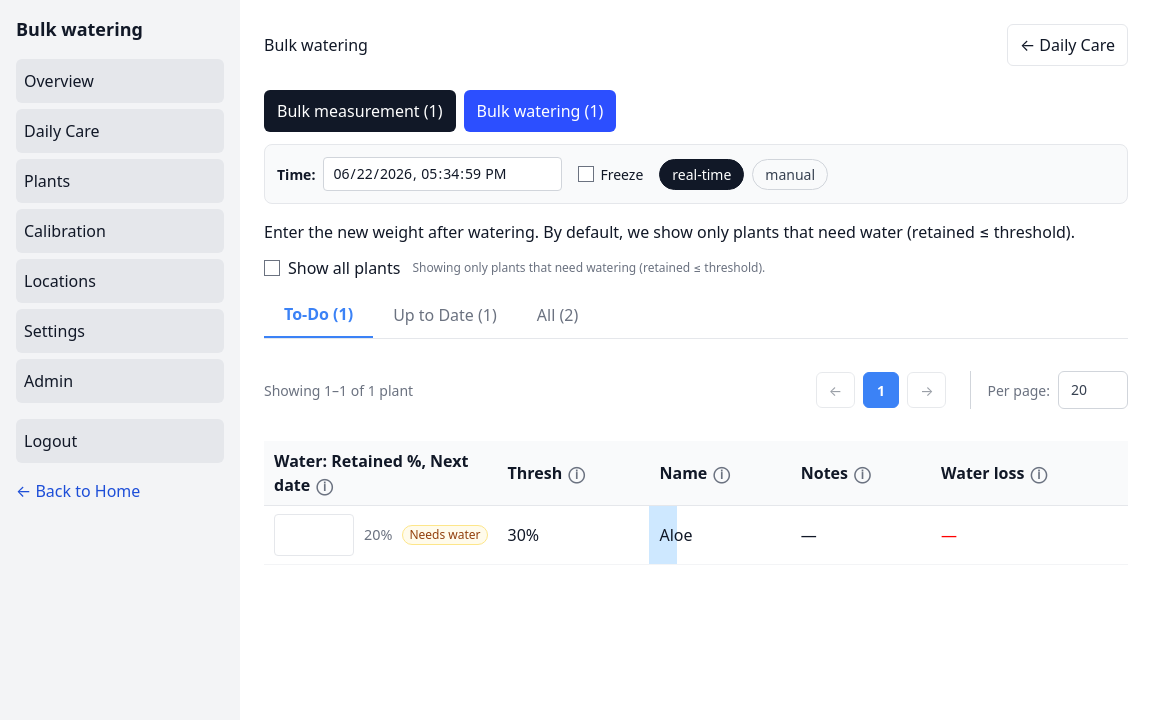
Test: pages/BulkWatering › initially shows only plants that needed watering; toggle shows all and deemphasizes above-threshold
This screenshot has width=1152, height=720.
Expected: the link "Aloe" is shown, [660,524,693,546]
Expected: the text "Monstera" is not shown
Note: Switch to "All" tab
Click the button "All (2)".
click(558, 315)  # box [517,292,598,338]
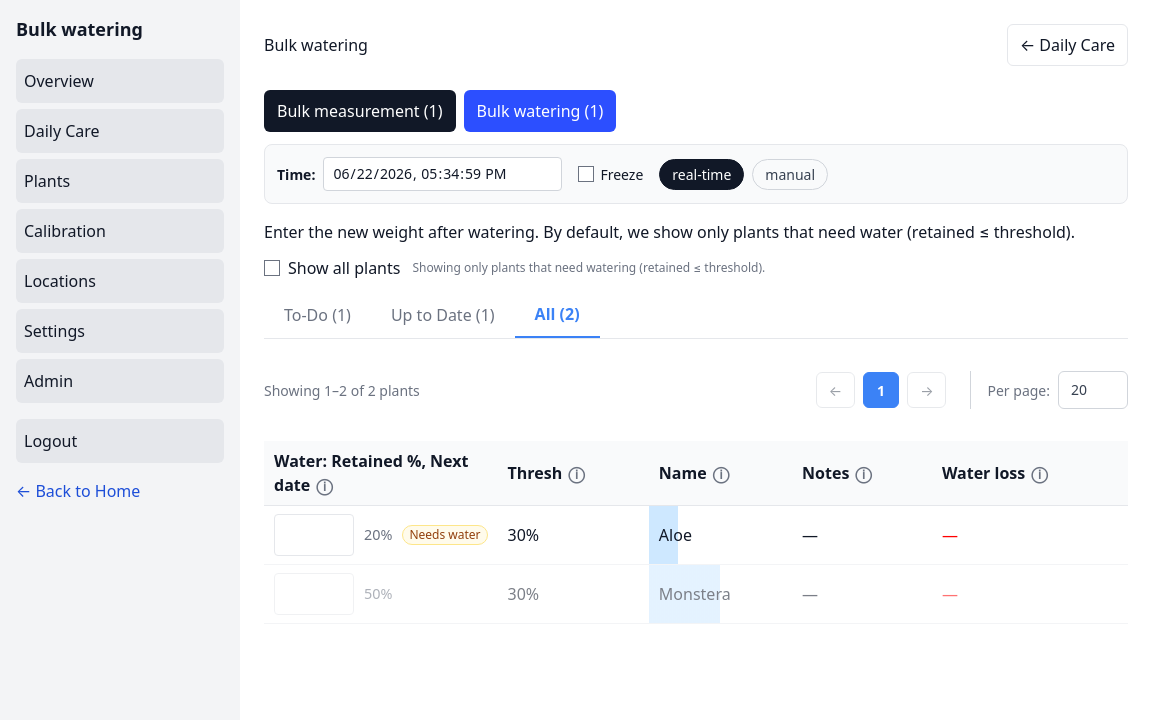
Now the link "Monstera" is shown, box [659,583,731,605]
Now the row "50% 30% Monstera — —" is shown, box [264,564,1128,624]
